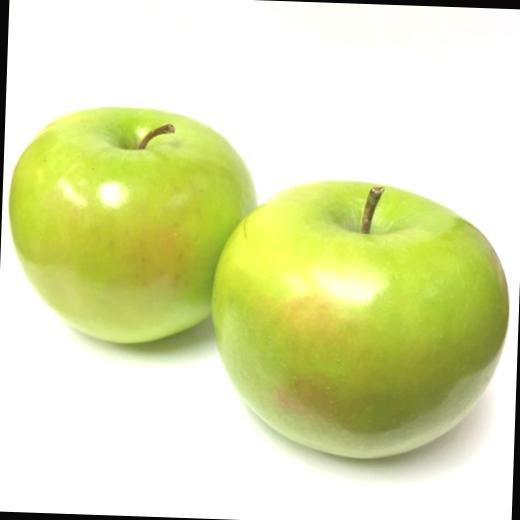Apple: (204, 175, 514, 463), (3, 104, 261, 349)
